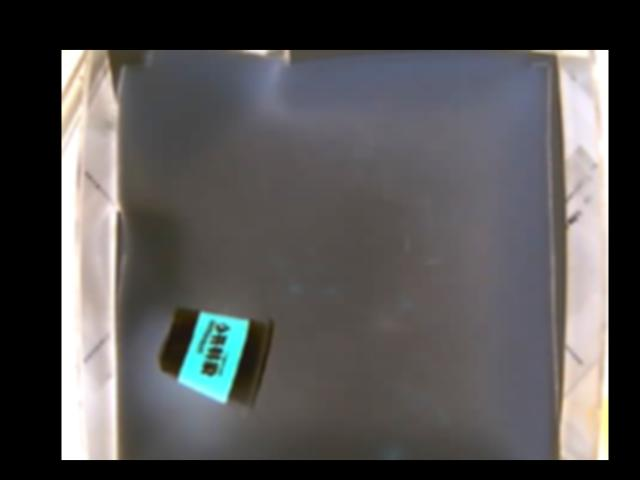Cup: (159, 309, 272, 409)
